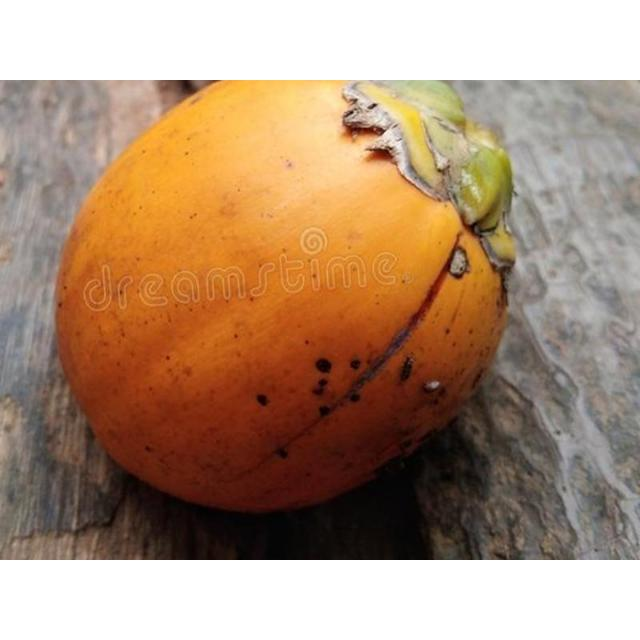good: (53, 80, 517, 518)
